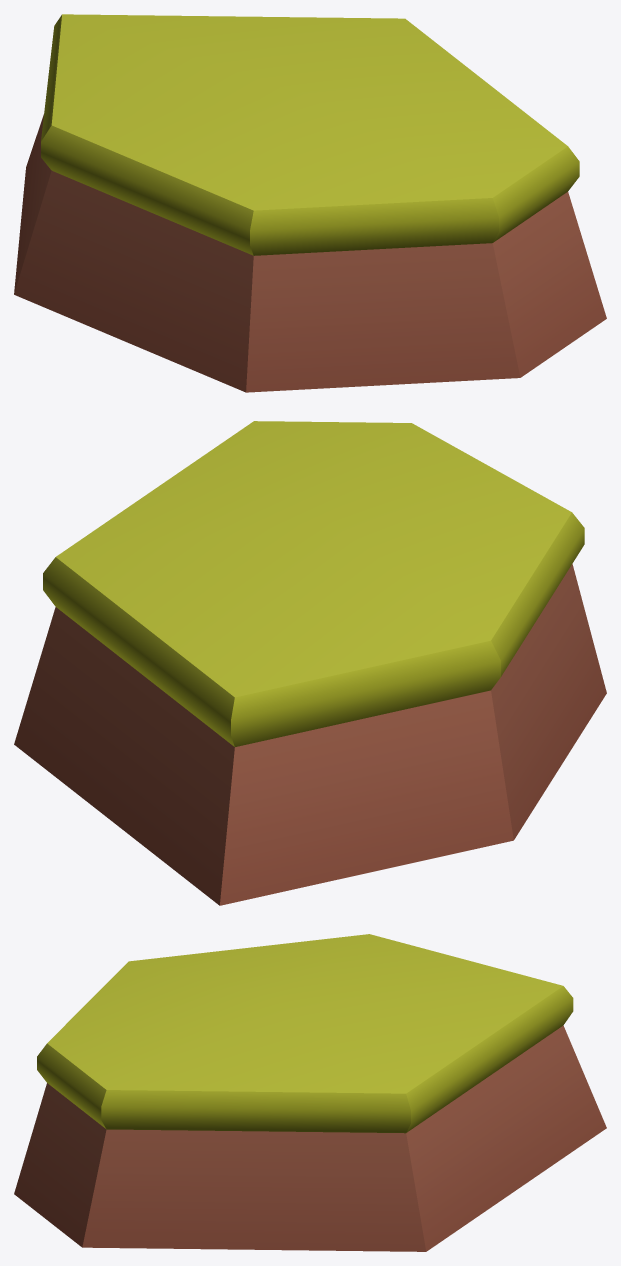
File: hill_single_B.gltf
The picture shows the model from 3 angles, top to bottom: view 1: azimuth 30°, elevation 25°; view 2: azimuth 150°, elevation 25°; view 3: azimuth 270°, elevation 25°; orthographic projection. The views are drawn at different scales.
Parts seen in each view (by area): view 1: hill_single_B; view 2: hill_single_B; view 3: hill_single_B.
Boxes of the visible parts, <box> form: hill_single_B: <box>14,14,606,392</box>; hill_single_B: <box>14,421,606,905</box>; hill_single_B: <box>14,934,606,1251</box>.
Size of the model in its own units: 0.995 by 0.4187 by 1.36.
Materials: 1 (1 with a texture image).
